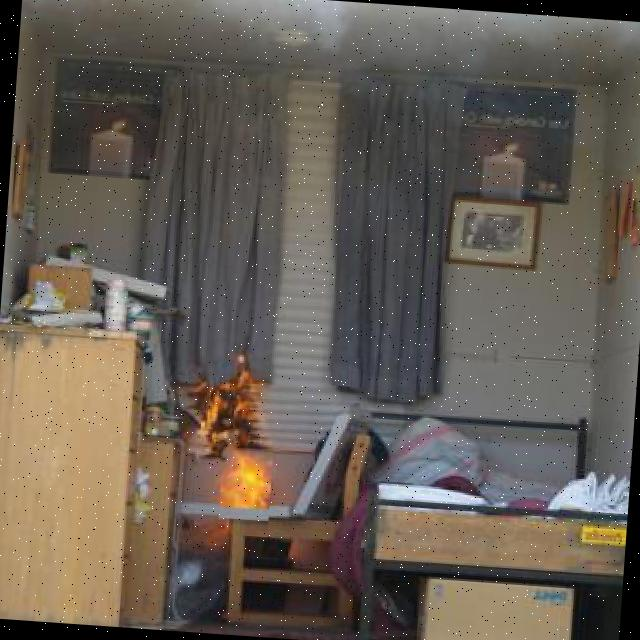fire: (217, 446, 273, 536)
